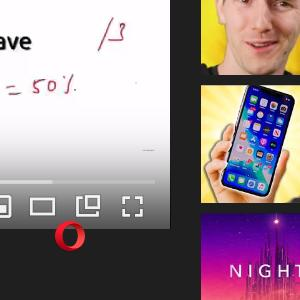opera: (56, 221, 85, 252)
